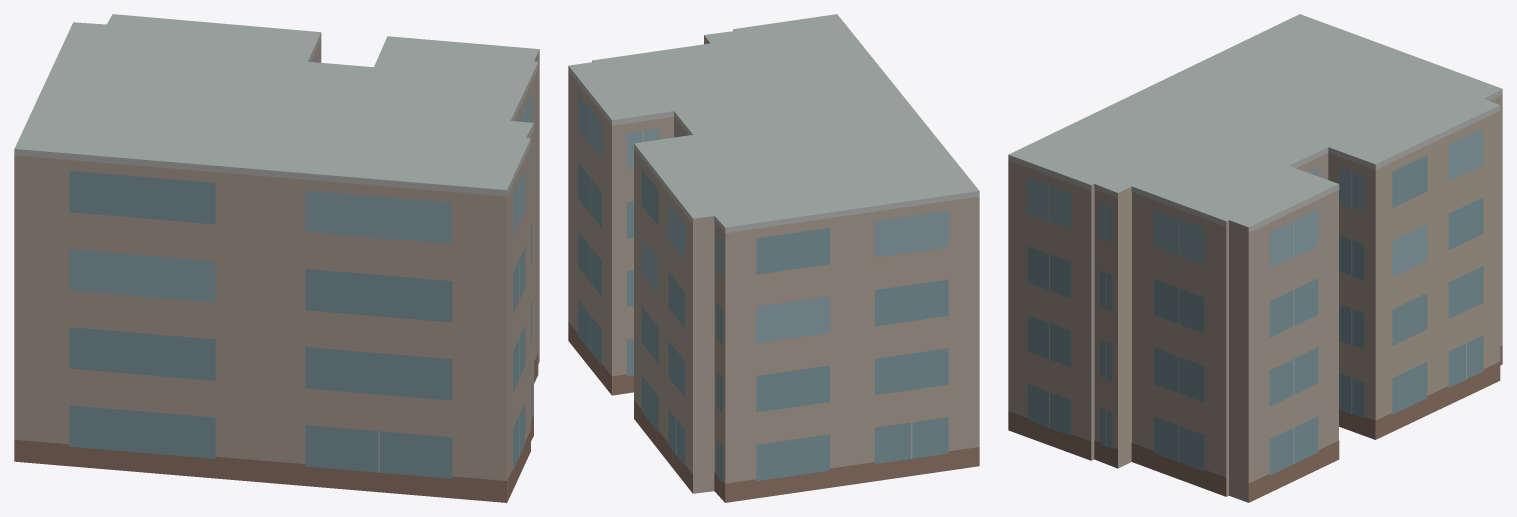
The model's file is survey-upis-32523026.glb.
3 views of the same model, side by side, from view 1: azimuth 30°, elevation 25°; view 2: azimuth 150°, elevation 25°; view 3: azimuth 270°, elevation 25° (orthographic). The views are drawn at different scales.
Parts seen in each view (by area): view 1: survey-upis-32523026.tmp; view 2: survey-upis-32523026.tmp; view 3: survey-upis-32523026.tmp.
Part boxes in pixels (box(x1,y1,x2,y2)): survey-upis-32523026.tmp: box(14, 14, 539, 502); survey-upis-32523026.tmp: box(568, 14, 979, 502); survey-upis-32523026.tmp: box(1008, 14, 1502, 502).
Bounding box in the file's own units: 19.9 × 11.98 × 19.49.
